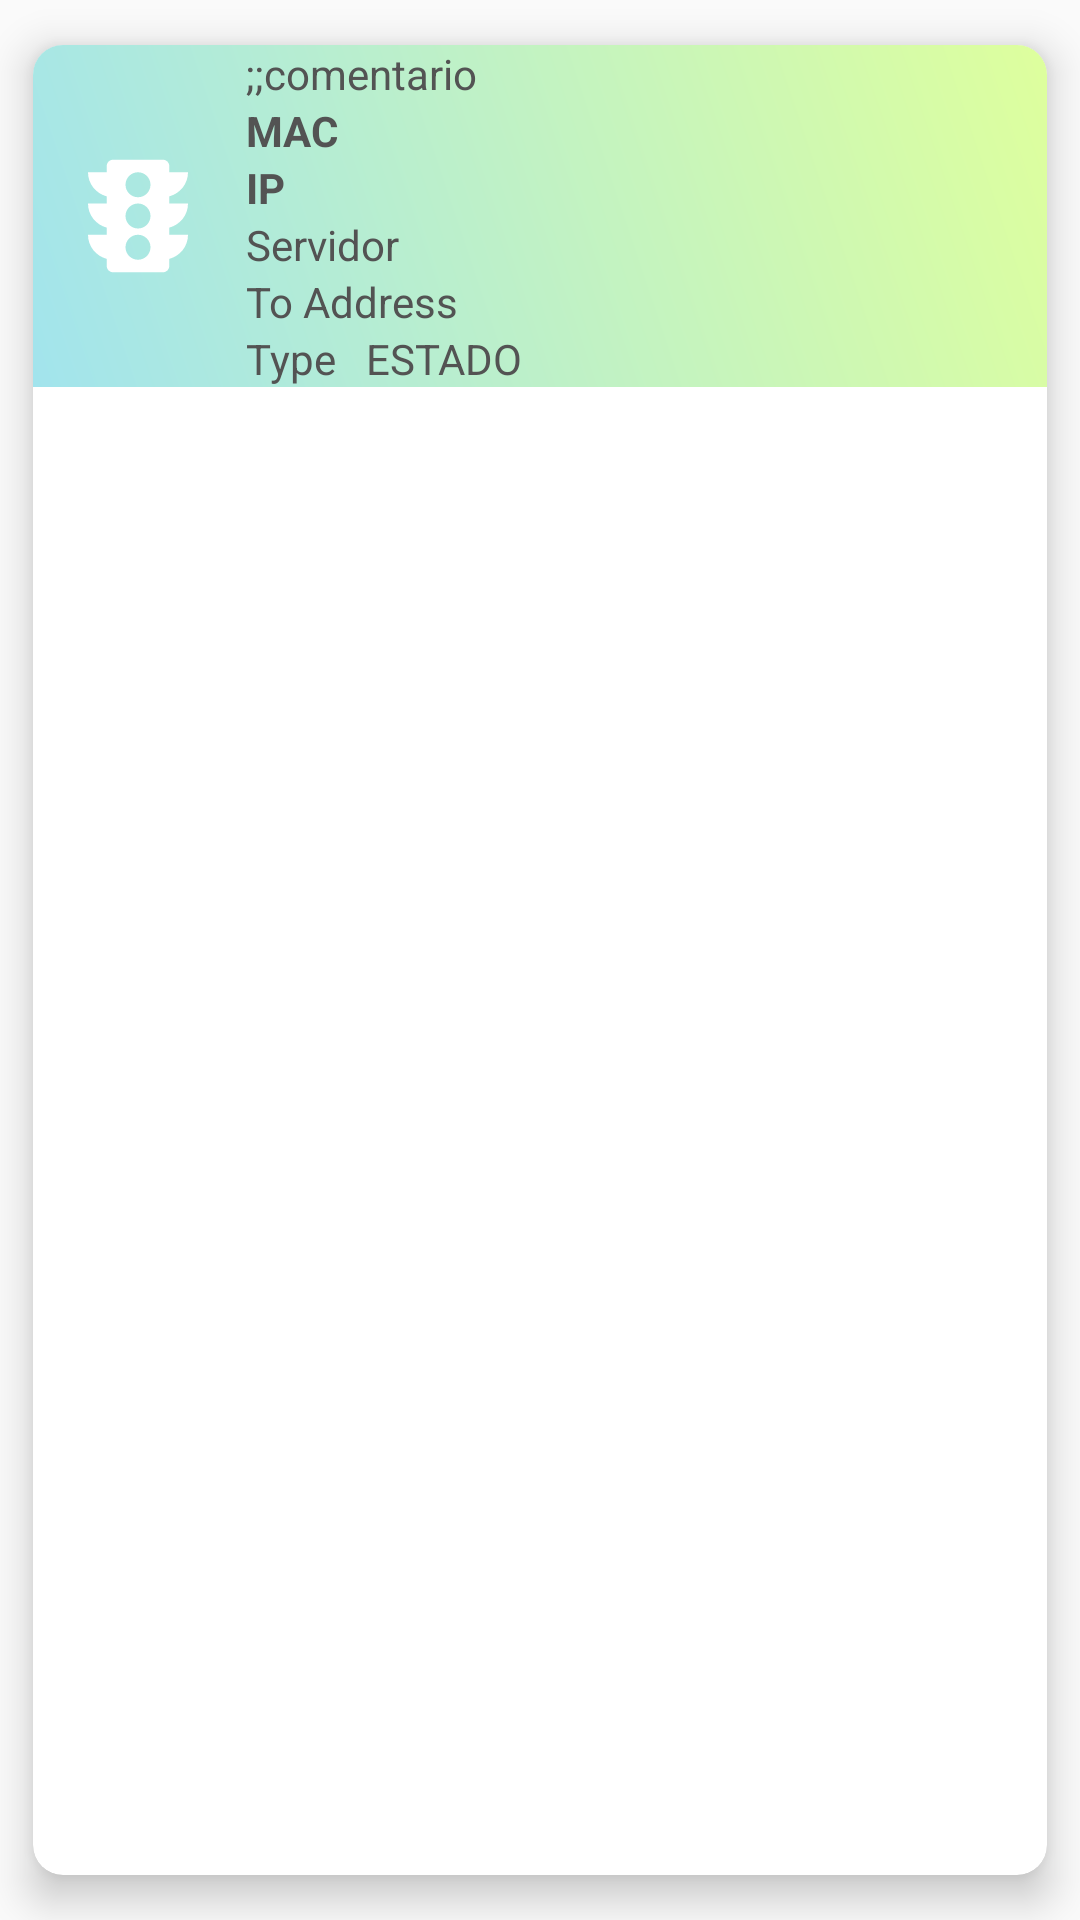

Where to tap for icons on this 1080x1920 app screen, as (x,y):
traffic: (138,216)
